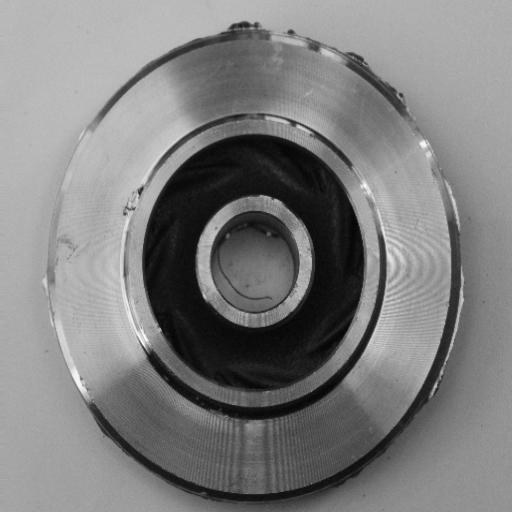casting_with_burr: (39, 17, 467, 505)
crack: (117, 180, 151, 230)
scratch: (349, 160, 400, 273), (247, 101, 319, 140)
